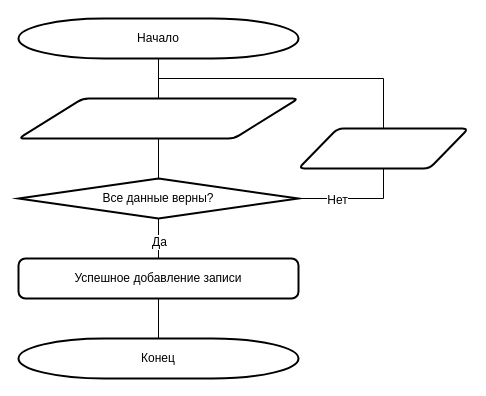
This 486x396 diagram has some shape labels left out. The shapes that lost their labels are listed below. From the top down, each one's centre as x and y in pixels, then its label:
At point 158,118: "Ввод данных документа".
At point 383,148: "Ошибка".
